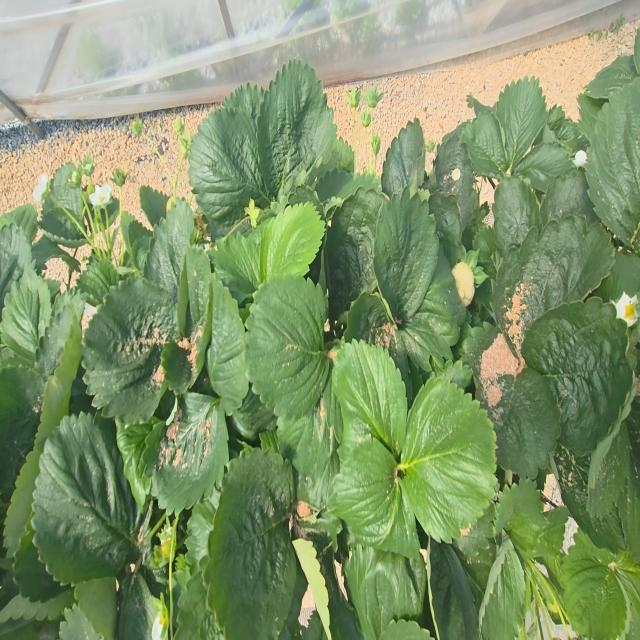Flowers: (615, 291, 638, 327), (89, 184, 111, 207), (33, 174, 48, 202), (152, 615, 165, 639)
Leaves: (33, 412, 143, 583), (493, 216, 614, 359), (522, 298, 632, 455), (208, 449, 297, 639), (399, 376, 496, 541), (461, 322, 560, 478), (82, 278, 179, 424), (188, 101, 276, 240), (246, 276, 331, 419), (258, 60, 336, 201), (329, 438, 419, 556), (585, 78, 640, 247), (152, 393, 228, 513), (373, 190, 439, 322), (333, 340, 407, 455), (396, 251, 466, 370), (324, 190, 385, 323), (344, 292, 413, 401), (559, 531, 627, 639), (278, 401, 339, 510), (554, 443, 616, 546), (253, 202, 324, 288), (207, 279, 248, 412), (494, 76, 547, 171), (0, 270, 52, 366), (145, 199, 194, 300), (430, 540, 478, 639), (479, 537, 525, 639), (494, 480, 549, 558), (588, 424, 633, 519), (211, 230, 261, 305), (493, 177, 539, 256), (175, 569, 225, 639), (435, 134, 475, 220), (381, 119, 425, 196), (0, 220, 35, 310), (462, 112, 507, 181), (512, 142, 572, 193), (541, 169, 596, 223), (42, 162, 83, 224), (429, 191, 462, 266), (77, 259, 125, 306), (40, 210, 87, 248), (221, 82, 263, 120), (140, 185, 168, 227), (610, 511, 623, 539)
Strawberries: (452, 261, 474, 306), (154, 524, 173, 567), (364, 87, 383, 107), (346, 89, 361, 108), (68, 166, 81, 187), (84, 156, 95, 176), (360, 110, 372, 127), (173, 117, 184, 135), (132, 119, 143, 136), (166, 195, 176, 211)
